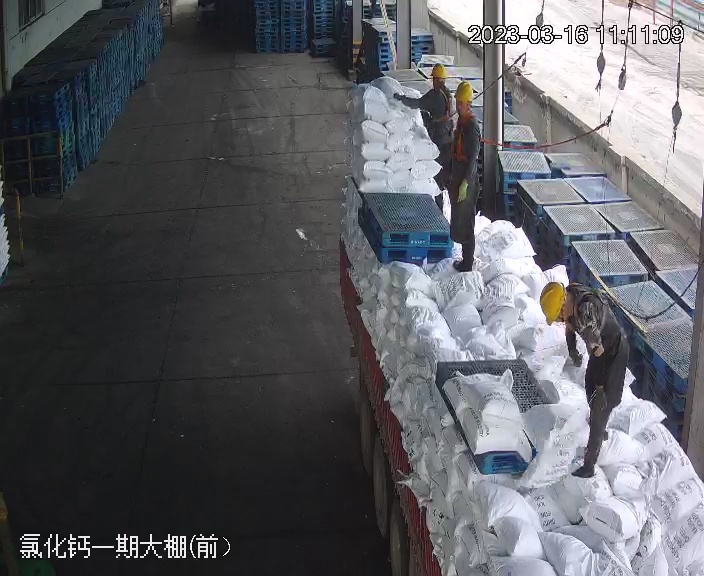belt: (565, 285, 618, 339), (449, 111, 482, 162), (427, 87, 454, 121)
head: (536, 279, 611, 341), (449, 80, 480, 134), (417, 64, 454, 108)
helmet: (449, 78, 480, 126), (538, 281, 567, 324), (453, 80, 474, 103), (429, 63, 448, 79)
people: (538, 278, 630, 480), (441, 77, 484, 271), (419, 60, 456, 215)
truck: (335, 62, 704, 576)
